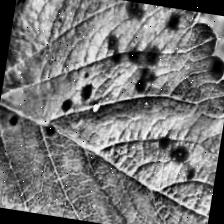Leaf Spot: (0, 0, 224, 224), (2, 0, 129, 109)
